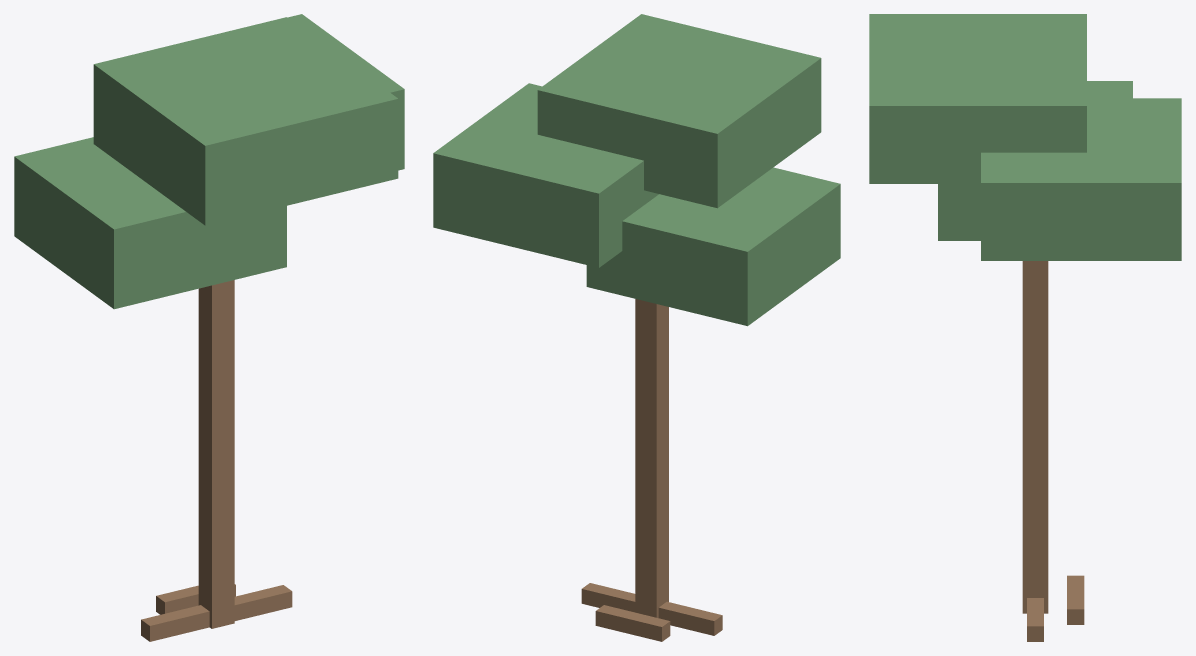
File: canopy.glb
3 views of the same model, side by side, from view 1: azimuth 30°, elevation 25°; view 2: azimuth 150°, elevation 25°; view 3: azimuth 270°, elevation 25° (orthographic). The views are drawn at different scales.
Bounding box in the file's own units: 6.15 × 10.55 × 5.45.
